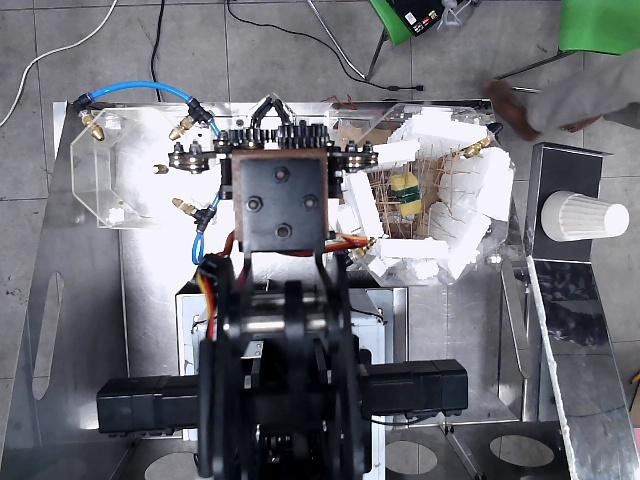cup: (541, 192, 630, 241)
